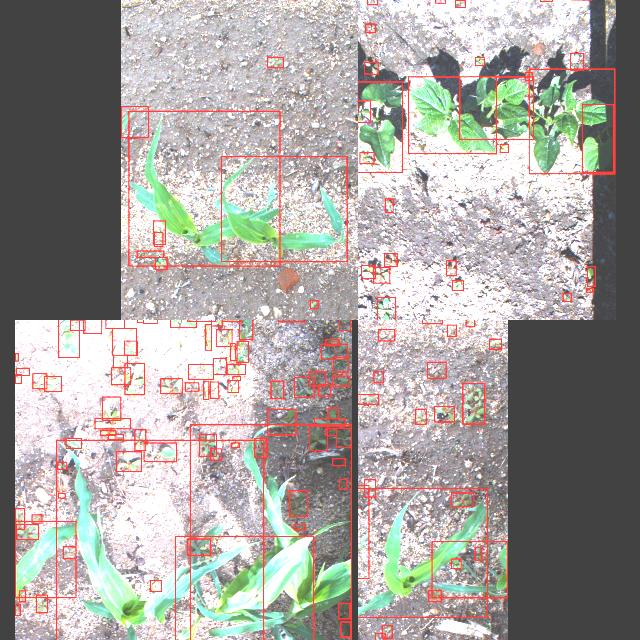crop: (55, 439, 263, 640), (189, 423, 351, 640), (128, 110, 280, 266), (358, 487, 487, 616), (174, 535, 313, 640), (220, 156, 346, 260), (529, 68, 615, 174), (408, 76, 496, 154), (459, 76, 533, 140), (15, 521, 75, 597), (431, 541, 507, 597), (358, 80, 401, 171), (582, 104, 614, 172), (120, 105, 148, 136)
weed: (462, 382, 484, 423), (57, 320, 78, 357), (267, 408, 295, 434), (144, 442, 176, 462), (124, 362, 144, 394), (112, 328, 136, 354), (116, 451, 140, 471), (289, 490, 307, 516), (309, 424, 327, 450), (376, 296, 395, 320), (102, 396, 120, 419), (294, 376, 314, 396), (198, 433, 216, 455), (320, 344, 348, 358), (94, 418, 130, 428), (188, 538, 210, 554), (188, 364, 212, 378), (110, 368, 130, 384), (434, 405, 454, 421), (426, 361, 446, 377), (16, 524, 38, 538), (160, 378, 182, 392), (451, 492, 473, 506), (152, 220, 164, 244), (215, 328, 231, 346), (336, 428, 350, 447), (314, 418, 346, 426), (270, 380, 284, 398), (134, 428, 146, 449), (43, 376, 61, 390), (236, 341, 248, 362), (239, 320, 252, 339), (358, 100, 369, 121), (254, 438, 266, 457), (373, 268, 389, 282), (309, 371, 325, 385), (334, 356, 348, 372), (570, 52, 582, 70), (83, 320, 101, 332), (212, 357, 225, 373), (364, 479, 376, 496), (14, 508, 24, 528), (358, 394, 378, 404), (360, 264, 374, 278), (32, 374, 46, 388), (112, 354, 126, 368), (124, 340, 136, 356), (414, 408, 426, 424), (378, 328, 394, 340), (227, 363, 246, 373), (36, 594, 46, 612), (332, 375, 350, 385), (338, 602, 349, 618), (363, 61, 377, 73), (384, 252, 396, 266), (62, 546, 76, 558), (267, 57, 283, 67), (587, 266, 595, 286), (446, 260, 456, 276), (136, 250, 162, 256), (205, 324, 211, 350), (104, 320, 123, 328), (170, 320, 195, 326), (69, 320, 84, 330), (154, 257, 166, 269), (318, 383, 330, 395), (428, 589, 440, 601), (359, 152, 373, 162), (341, 622, 351, 636), (66, 437, 80, 447), (381, 624, 391, 638), (210, 381, 218, 397), (149, 580, 161, 590), (228, 380, 238, 392), (489, 338, 501, 348), (154, 232, 162, 246), (384, 198, 392, 212), (184, 382, 198, 390), (474, 546, 482, 560), (210, 448, 220, 459), (339, 320, 350, 330), (373, 371, 383, 382), (448, 324, 457, 336), (452, 280, 462, 290), (328, 408, 338, 418), (451, 558, 461, 568), (364, 23, 374, 32), (332, 458, 346, 464), (325, 339, 339, 345), (474, 57, 484, 65), (339, 479, 347, 489), (56, 461, 66, 469), (31, 514, 41, 522), (375, 632, 385, 640), (499, 144, 508, 152), (19, 590, 25, 602), (204, 380, 208, 398), (230, 342, 234, 360), (16, 368, 28, 374), (309, 300, 317, 308), (563, 292, 571, 300), (524, 72, 532, 80), (455, 0, 465, 6), (294, 523, 304, 529), (14, 604, 20, 614), (326, 428, 336, 434), (108, 434, 122, 438), (100, 430, 114, 434), (14, 373, 20, 382), (465, 320, 474, 326), (211, 320, 221, 325), (367, 0, 377, 4), (58, 492, 64, 498), (231, 442, 239, 446), (232, 376, 240, 380), (586, 287, 592, 291), (15, 352, 18, 360), (435, 0, 445, 2)
